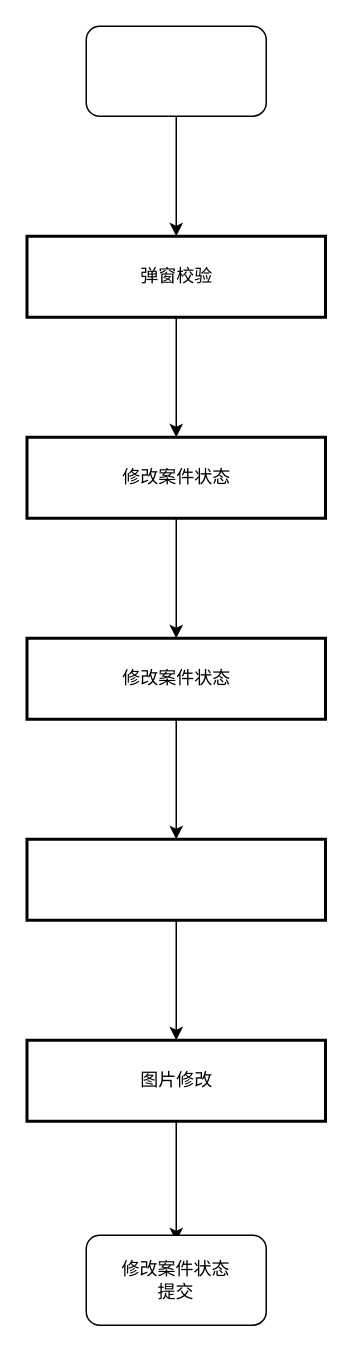
Image size: 353x1352. Some labels were removed from this diagram. Here are the shapes that lost their labels. From the top down, the box of each, then its label:
(85, 25, 266, 116): 开始: 用户点击修改
(25, 837, 326, 921): 个人信息修改
